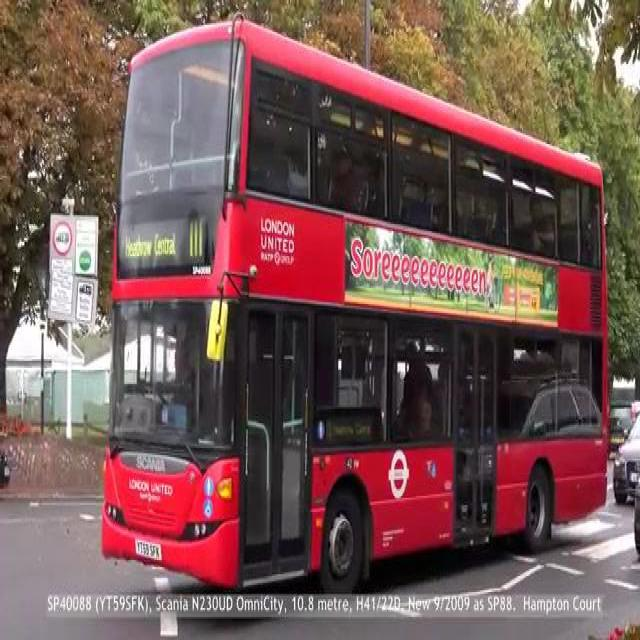motorcycle: (71, 0, 640, 622)
